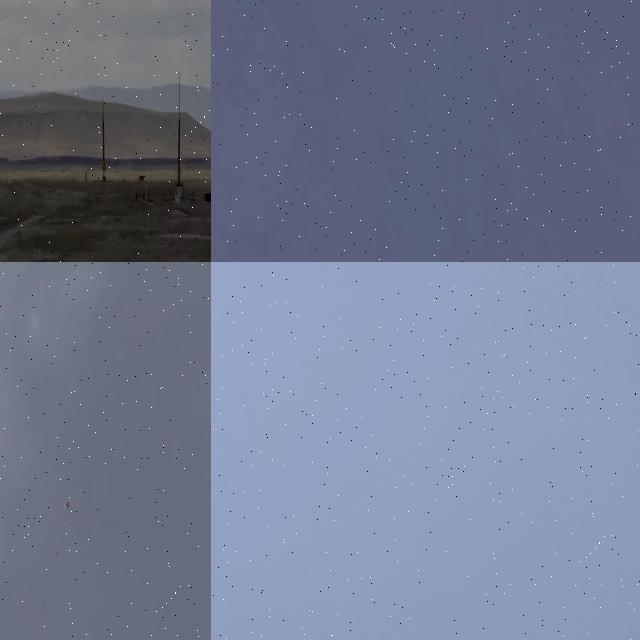Rocket: (101, 97, 107, 172), (176, 116, 181, 182), (42, 600, 45, 611), (501, 355, 508, 358)
